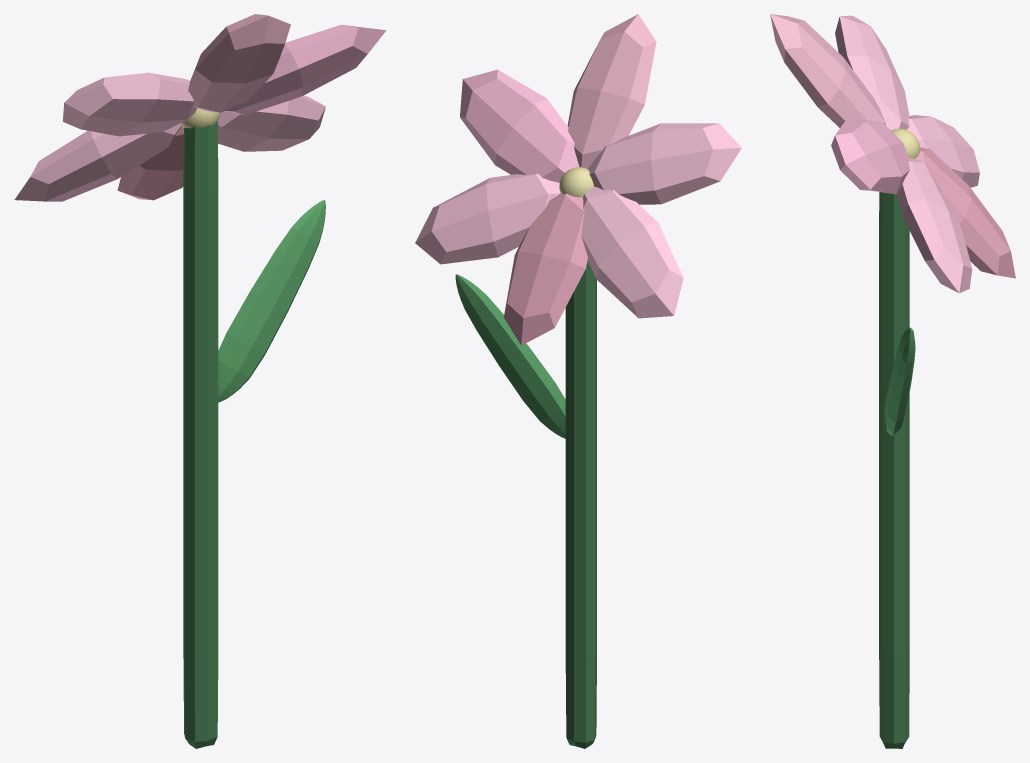
The model's file is daisy.fbx.
3 views of the same model, side by side, from view 1: azimuth 30°, elevation 25°; view 2: azimuth 150°, elevation 25°; view 3: azimuth 270°, elevation 25° (orthographic). The views are drawn at different scales.
Visible parts, largest first — view 1: Cube.007, Cube.006, Cube.002, Cube, Cube.004, Cube.001, Cube.003, Cube.005; view 2: Cube.007, Cube.004, Cube.002, Cube.001, Cube.003, Cube, Cube.005, Cube.006, Sphere; view 3: Cube.007, Cube, Cube.003, Cube.001, Cube.005, Cube.002, Cube.004, Cube.006, Sphere.
Part boxes in pixels (x1=…): Cube.007: x1=183, y1=120, x2=218, y2=748; Cube.006: x1=218, y1=200, x2=325, y2=402; Cube.002: x1=62, y1=72, x2=197, y2=136; Cube: x1=188, y1=14, x2=290, y2=112; Cube.004: x1=14, y1=123, x2=181, y2=201; Cube.001: x1=224, y1=24, x2=386, y2=114; Cube.003: x1=217, y1=95, x2=325, y2=151; Cube.005: x1=117, y1=126, x2=183, y2=200; Cube.007: x1=565, y1=260, x2=596, y2=748; Cube.004: x1=581, y1=186, x2=683, y2=318; Cube.002: x1=588, y1=123, x2=741, y2=204; Cube.001: x1=460, y1=69, x2=579, y2=182; Cube.003: x1=415, y1=173, x2=560, y2=264; Cube: x1=567, y1=14, x2=656, y2=168; Cube.005: x1=503, y1=193, x2=587, y2=345; Cube.006: x1=455, y1=274, x2=565, y2=438; Sphere: x1=559, y1=167, x2=593, y2=197; Cube.007: x1=879, y1=192, x2=909, y2=748; Cube: x1=770, y1=14, x2=885, y2=127; Cube.003: x1=897, y1=158, x2=972, y2=293; Cube.001: x1=831, y1=119, x2=909, y2=194; Cube.005: x1=915, y1=147, x2=1015, y2=278; Cube.002: x1=835, y1=15, x2=909, y2=130; Cube.004: x1=906, y1=115, x2=979, y2=187; Cube.006: x1=884, y1=327, x2=915, y2=435; Sphere: x1=891, y1=128, x2=920, y2=158.
Bounding box in the file's own units: 62.63 × 146 × 44.37.
